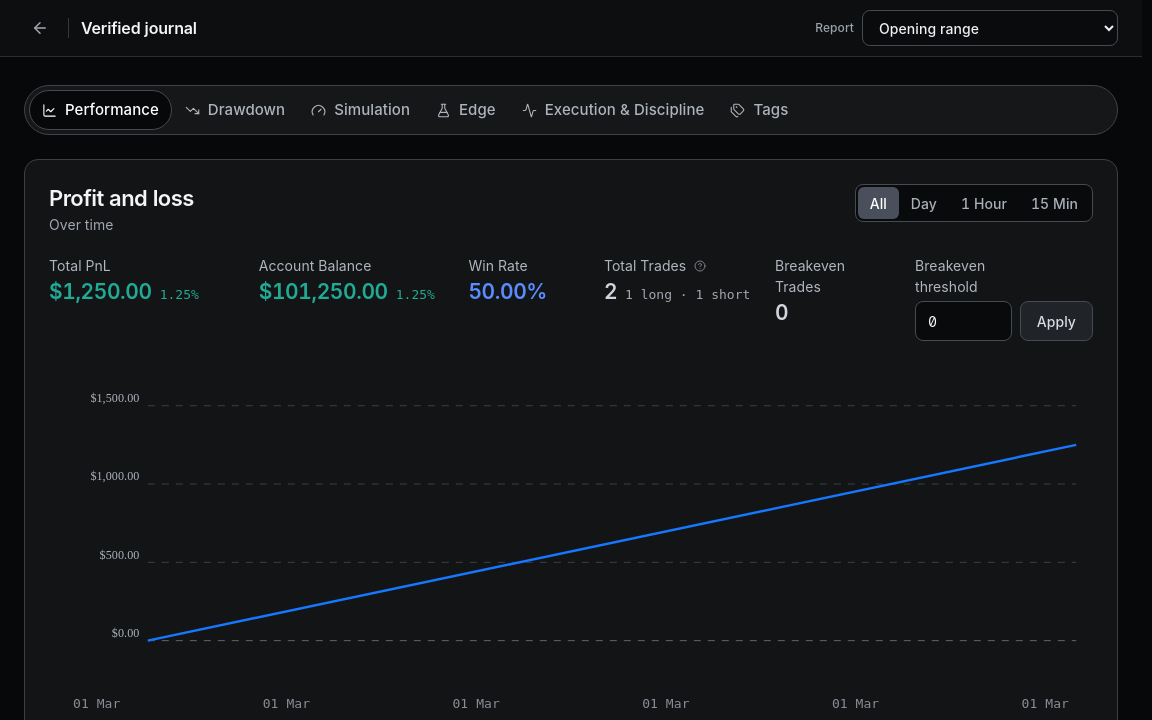
it: AnalyticsScreen › shows an honest empty state when the selected source has no user-created tags
This screenshot has width=1152, height=720.
What coordinates should you click on to do the following:
click the tab "Tags"
I would click on:
 (759, 110)
Its box is [718, 90, 801, 130].
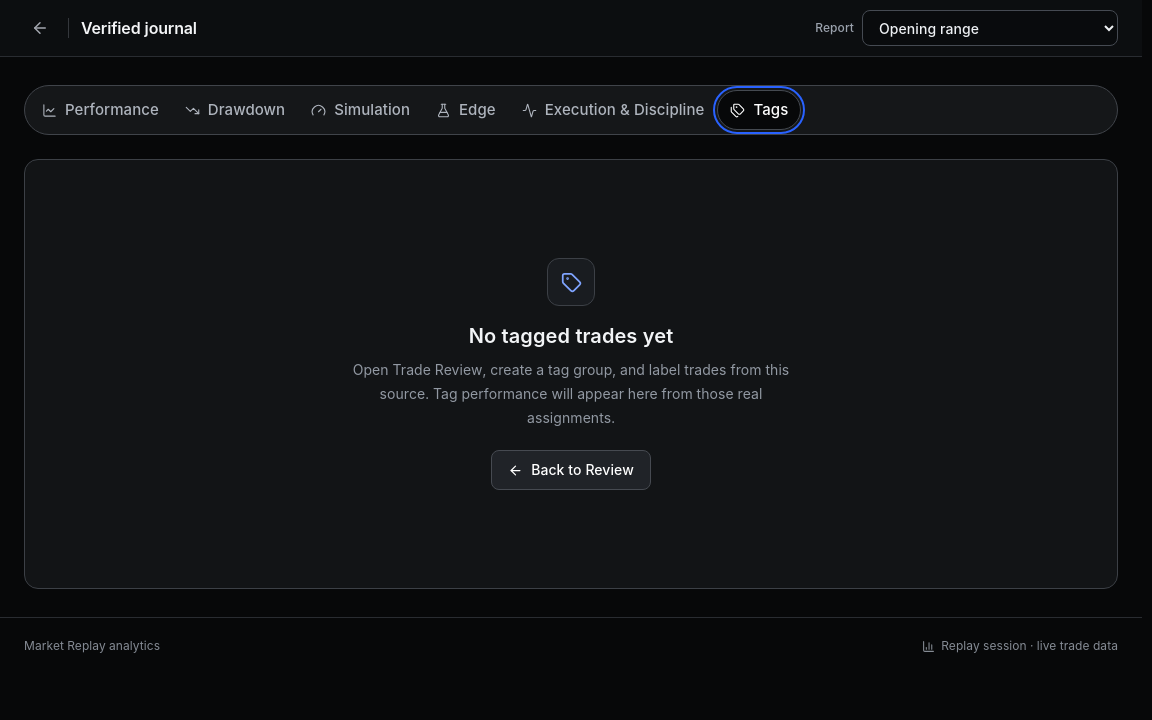
Result: the heading "No tagged trades yet" is shown at [469, 324, 673, 348]
